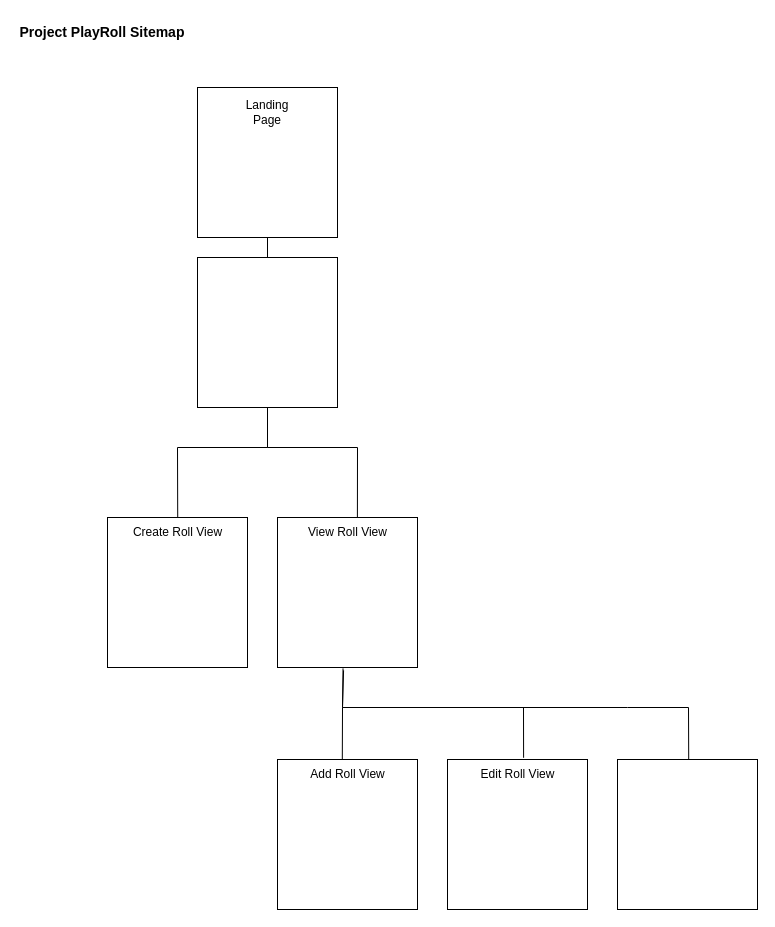
Image size: 775x927. Some labels were removed from this diagram. The box of each missing label's shape, as (x1, y1, x2, y2) in pixels:
Home (Dashboard): (196, 256, 338, 408)
Share Roll View: (616, 758, 758, 910)
